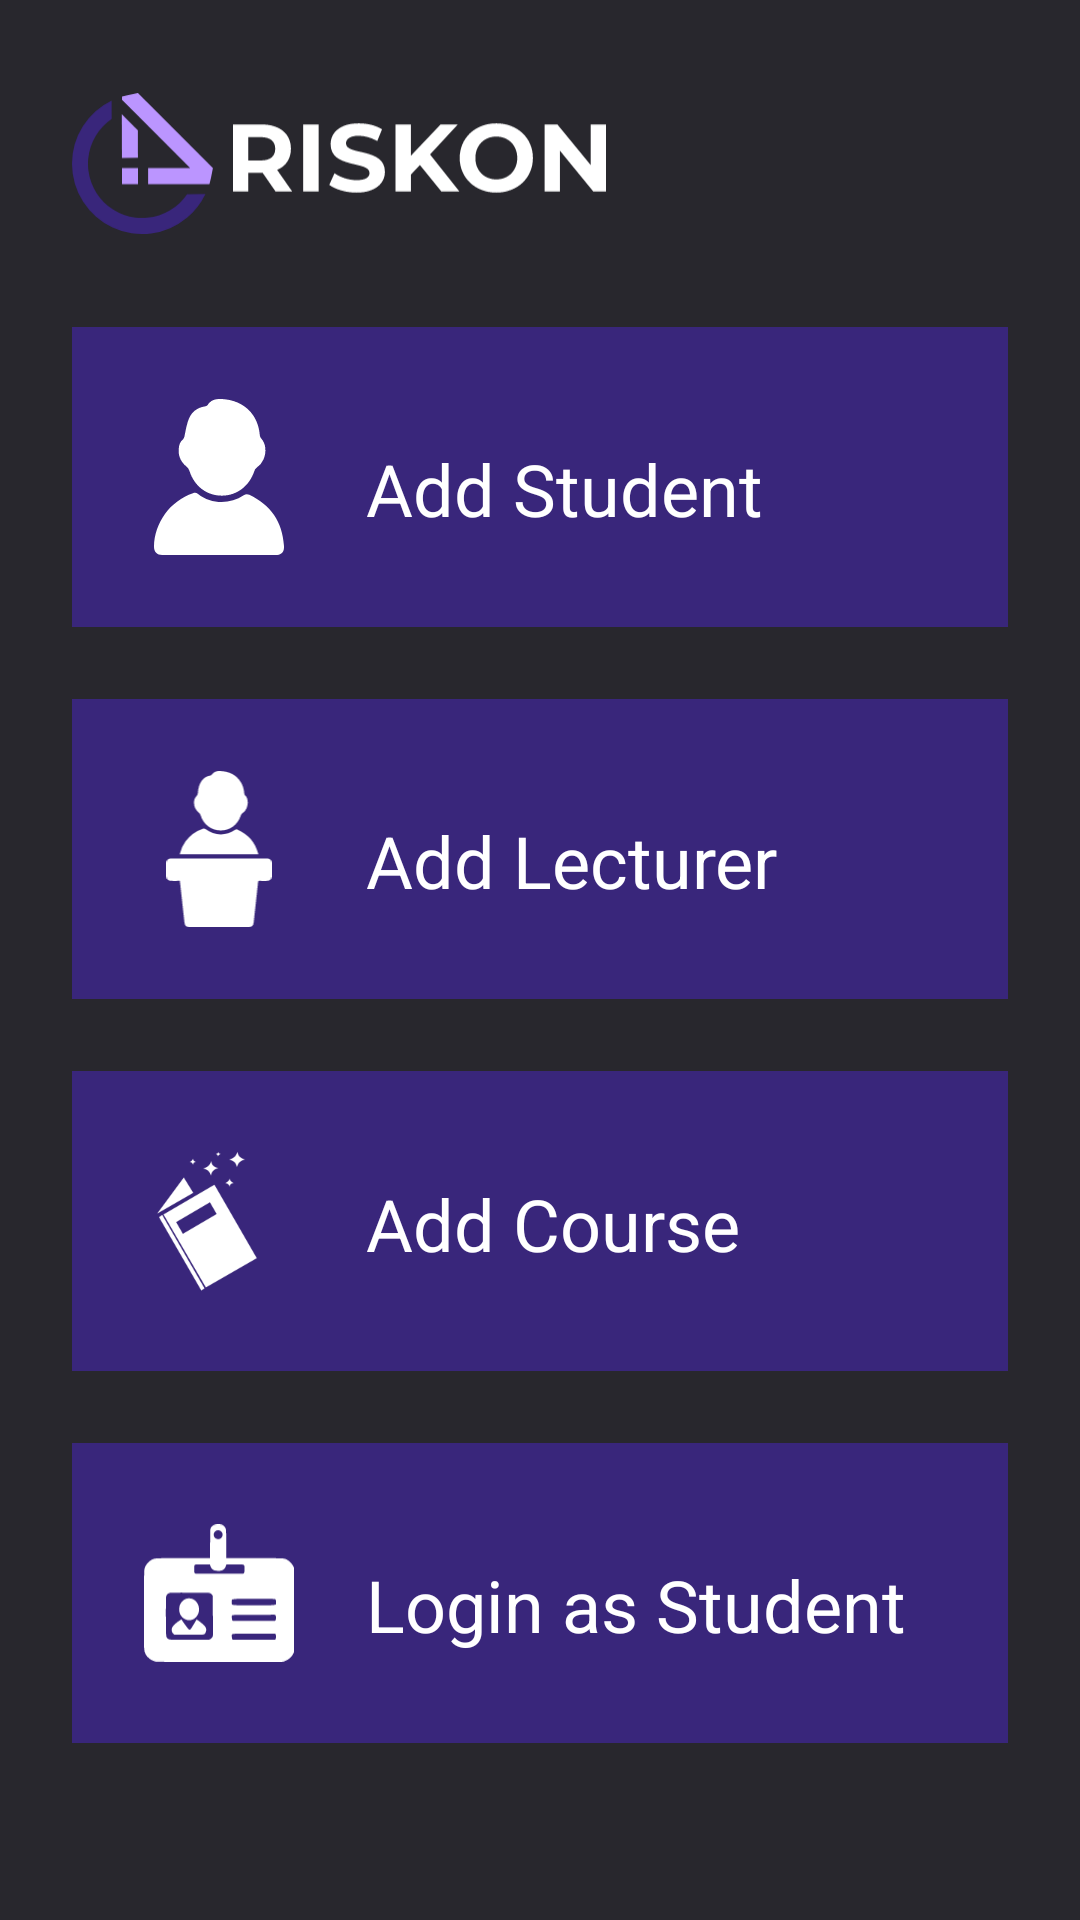

Named icons in this screenshot (1080x1920) and their bounding boxes, [x1,y1,x2,y2]:
lecturericon: [166,771,272,927]
scardicon: [144,1524,294,1662]
studenticon: [154,399,284,555]
wizardbook: [157,1152,257,1291]
